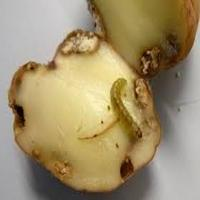biodegradable: (7, 28, 162, 193), (85, 0, 200, 80)
